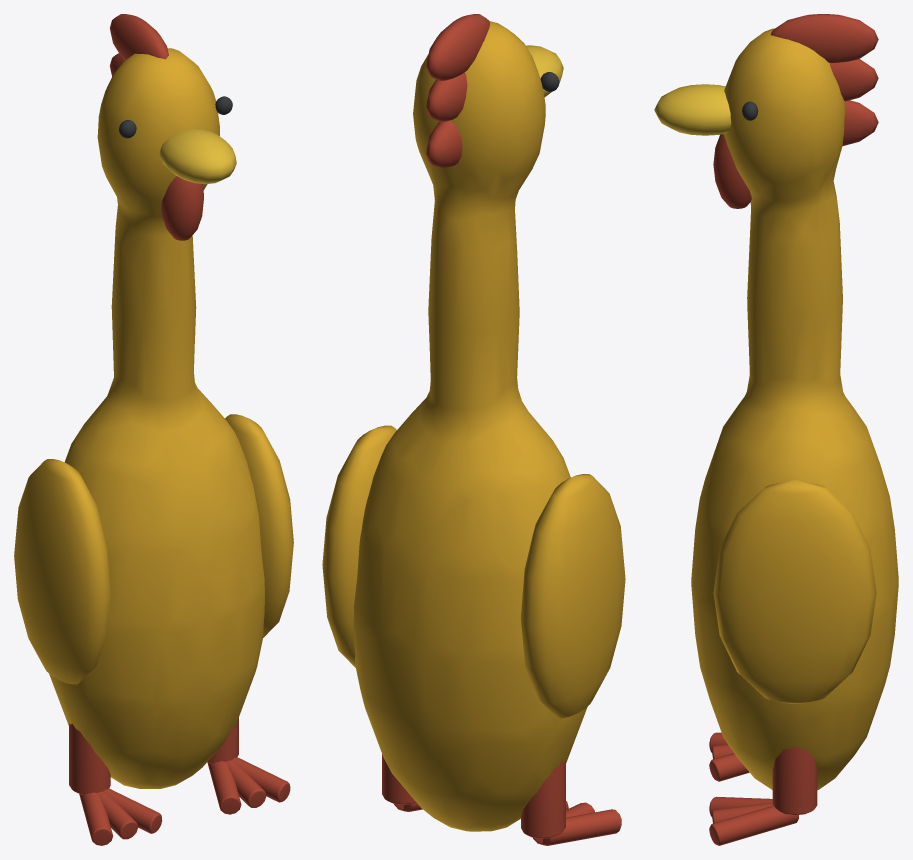
The model's file is P043_rubber_chicken_rebuilt.glb.
3 views of the same model, side by side, from view 1: azimuth 30°, elevation 25°; view 2: azimuth 150°, elevation 25°; view 3: azimuth 270°, elevation 25° (orthographic). The views are drawn at different scales.
Visible parts, largest first — view 1: rubber, Chicken_red_comb_and_feet, yellow, ink; view 2: rubber, Chicken_red_comb_and_feet, yellow; view 3: rubber, Chicken_red_comb_and_feet, yellow.
Part boxes in pixels (x1,y1,x2,y2): rubber: (14, 48, 293, 788); Chicken_red_comb_and_feet: (69, 14, 290, 845); yellow: (159, 128, 236, 184); ink: (119, 96, 232, 138); rubber: (322, 21, 625, 831); Chicken_red_comb_and_feet: (382, 14, 621, 845); yellow: (526, 45, 563, 97); rubber: (691, 28, 898, 789); Chicken_red_comb_and_feet: (709, 14, 878, 845); yellow: (654, 84, 731, 135).
Bounding box in the file's own units: 0.1536 × 0.467 × 0.1318.
